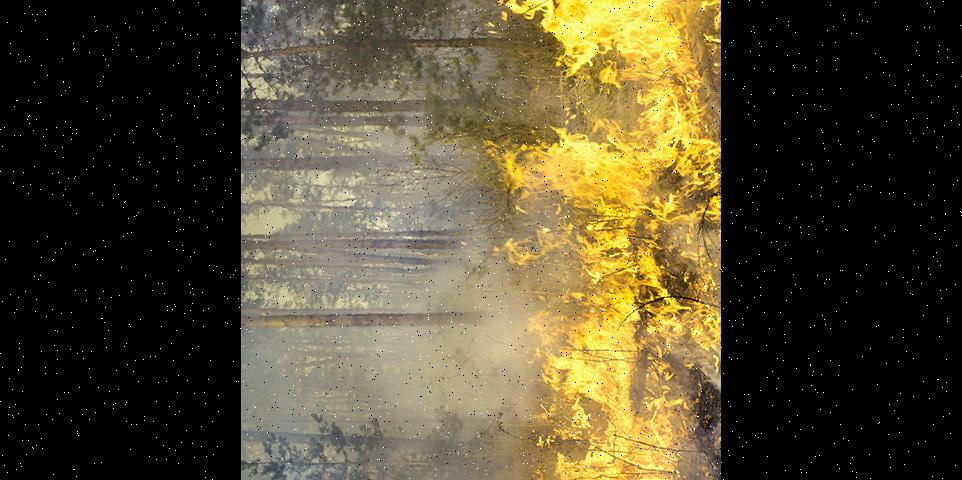fire: (441, 0, 721, 480)
